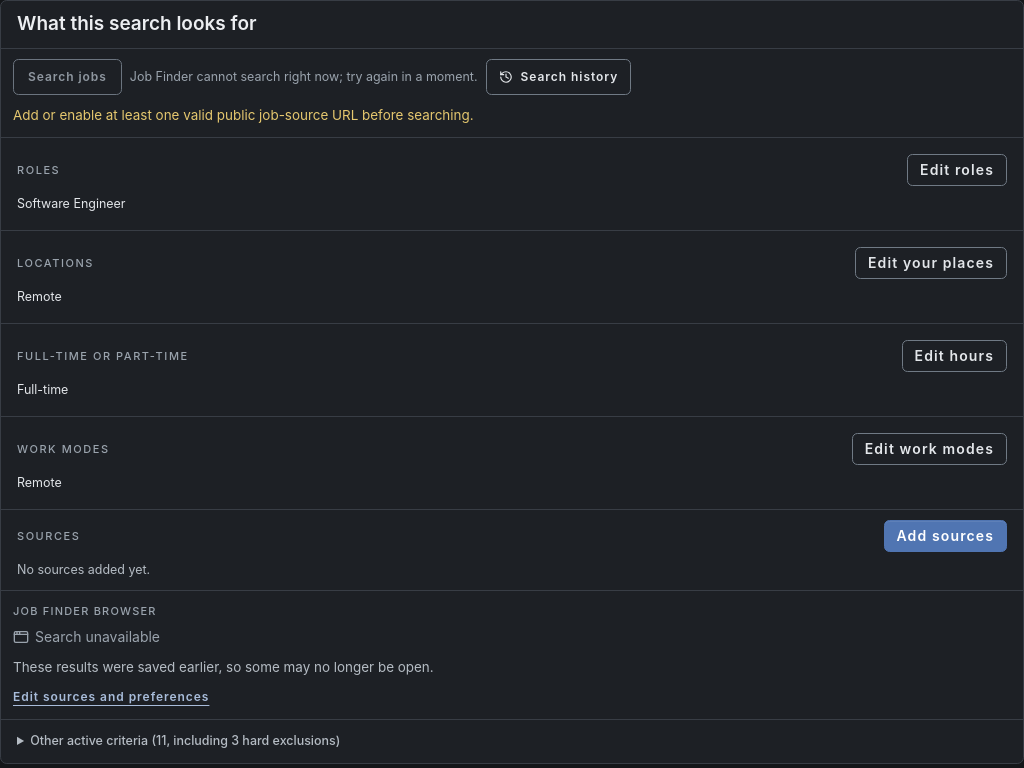
Test case: DiscoveryFiltersPanel › discloses configured omitted preferences and hard exclusions in a collapsed native control
This screenshot has width=1024, height=768.
Step 1. Click the heading "Other active criteria (11, including 3 hard exclusions)" → (185, 741), box left=30, top=733, right=340, bottom=748
(page scrolled)
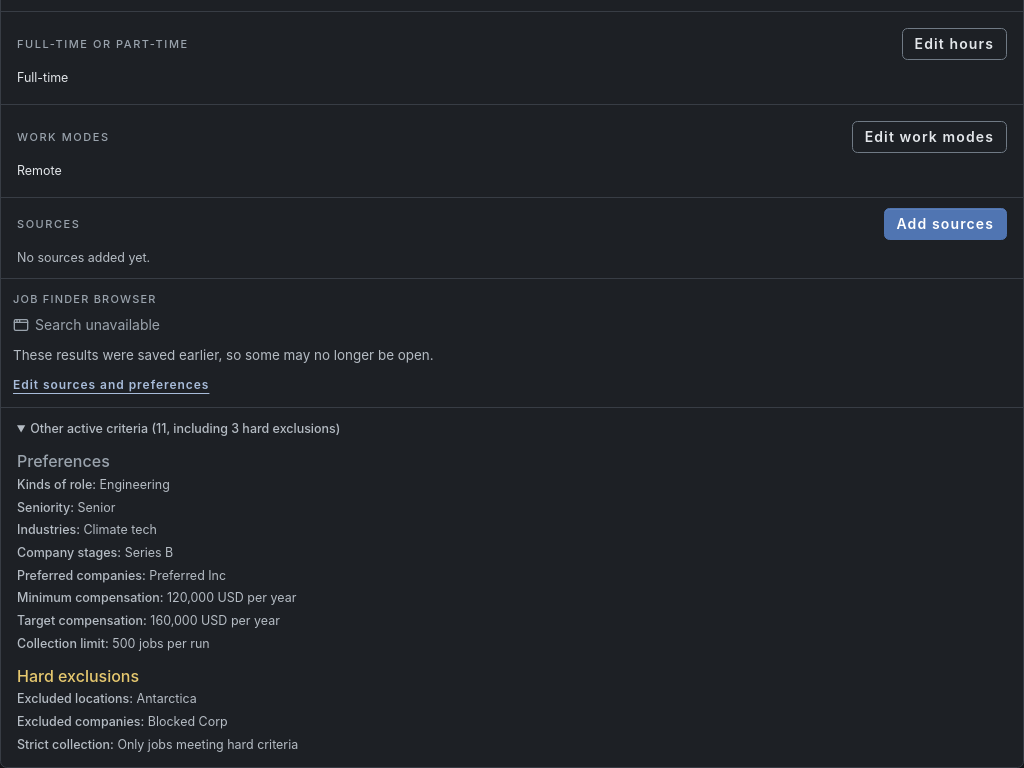
Expected: the element named "Other search preferences" shows "Minimum compensation: 120,000 USD per year", left=17, top=451, right=296, bottom=651
Expected: the element named "Other search preferences" shows "Collection limit: 500 jobs per run", left=17, top=451, right=296, bottom=651
Expected: the element "Hard exclusions" shows "Excluded companies: Blocked Corp", left=17, top=666, right=298, bottom=752
